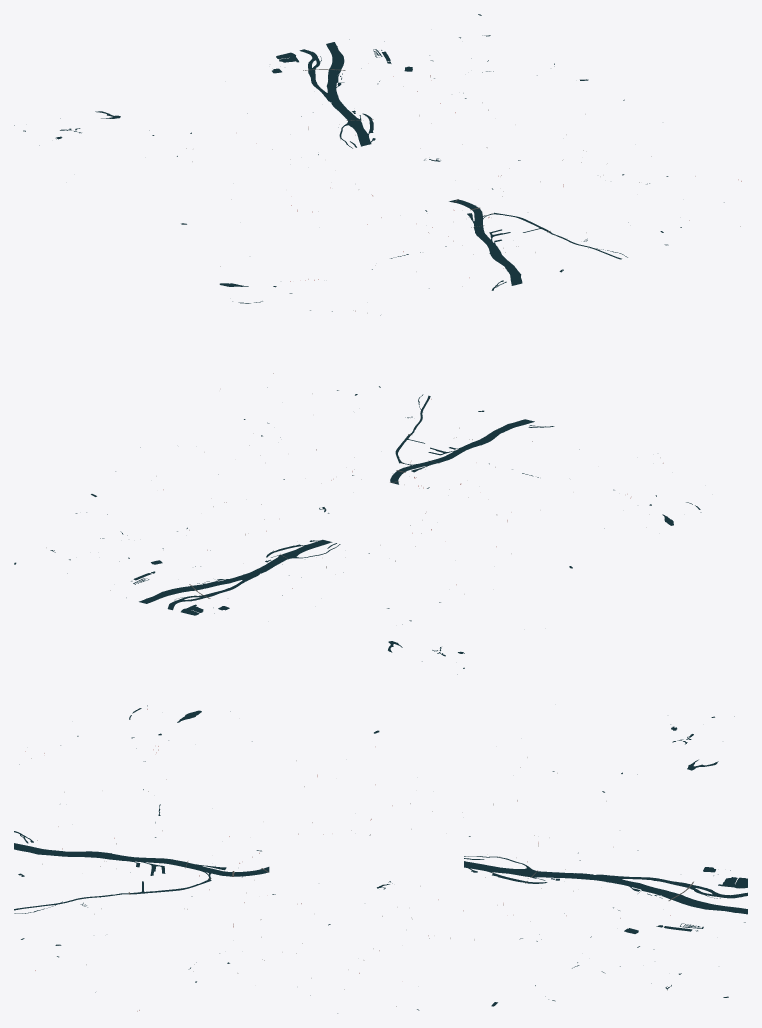
Rendered from structures.glb.
The picture shows the model from 3 angles, top to bottom: view 1: azimuth 30°, elevation 25°; view 2: azimuth 150°, elevation 25°; view 3: azimuth 270°, elevation 25°; orthographic projection. The views are drawn at different scales.
Visible parts, largest first — view 1: water; view 2: water; view 3: water.
Part boxes in pixels (left/top/right/bottom): water: left=14, top=14, right=724, bottom=315; water: left=14, top=386, right=701, bottom=674; water: left=14, top=705, right=747, bottom=1013.
Size of the model in its own units: 25611 by 548 by 25572.
